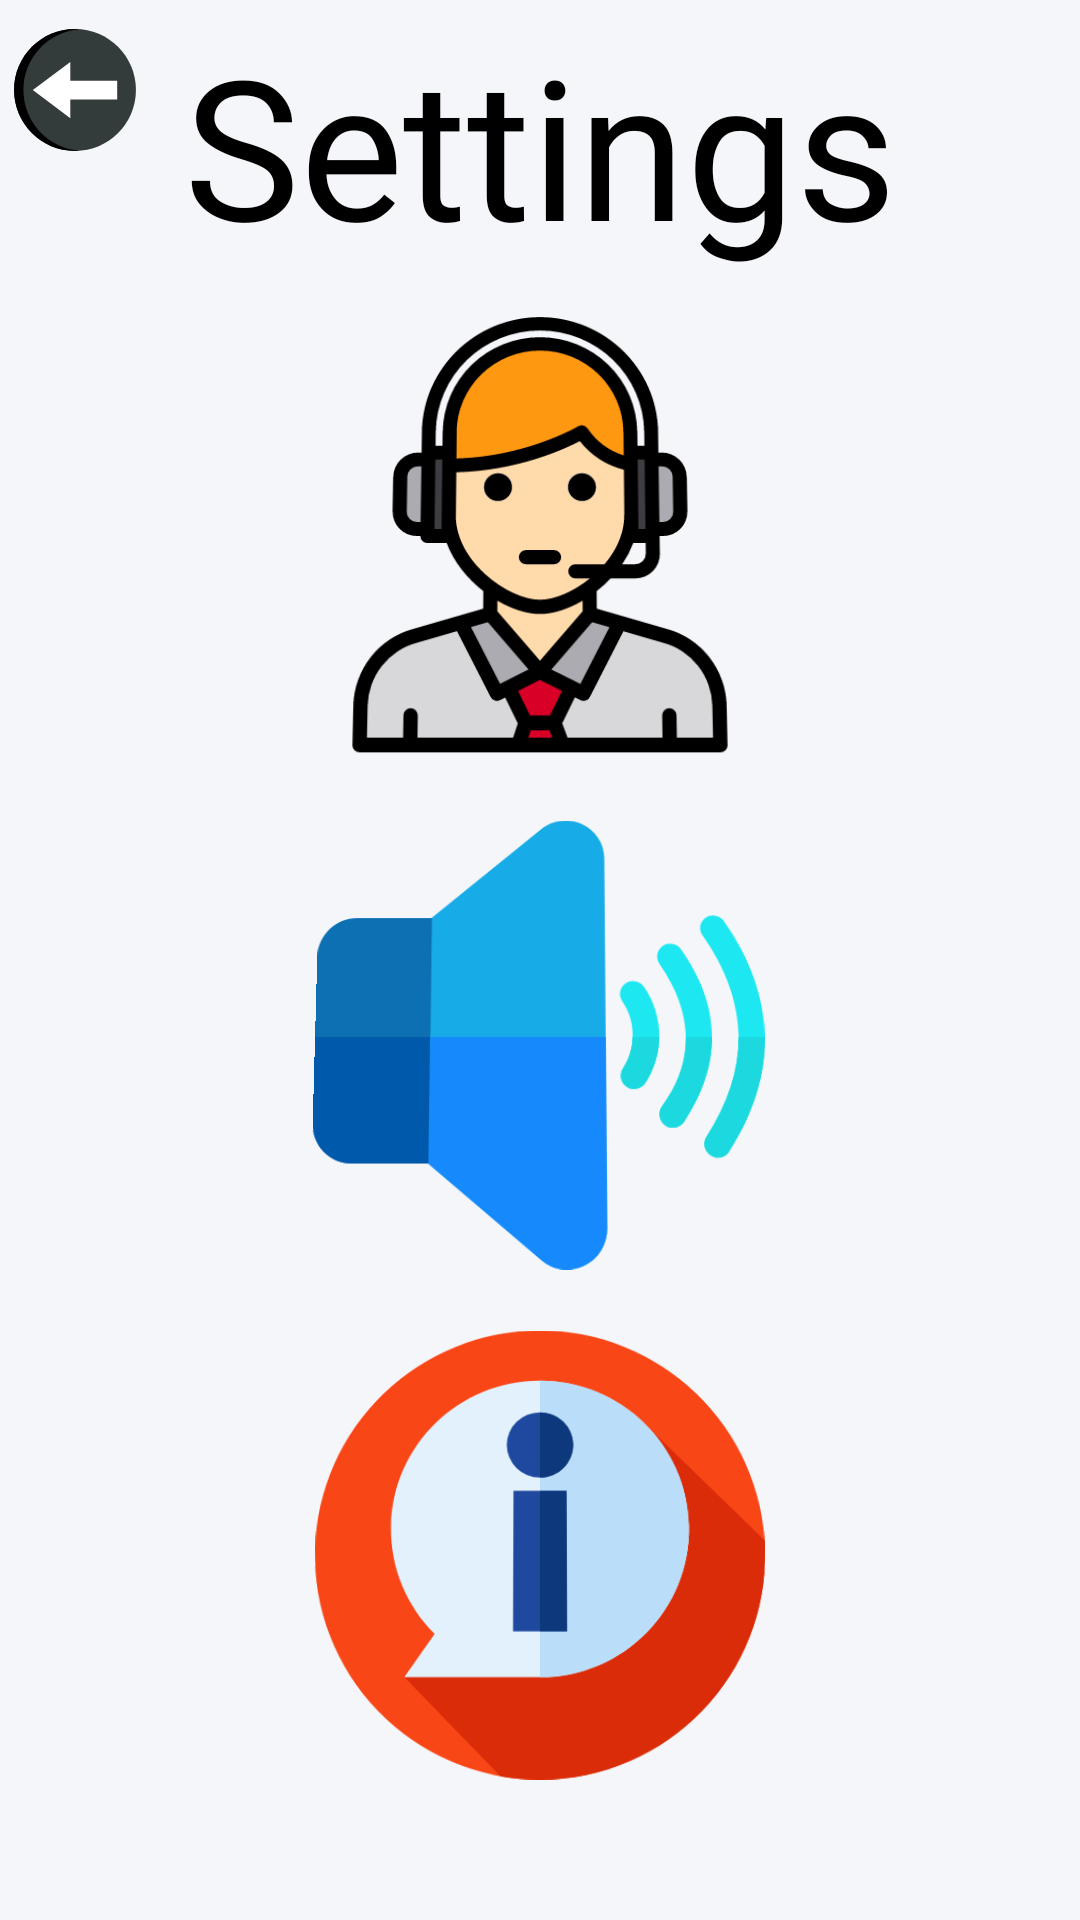

Icons on this 1080 × 1920 Android screen, each with its box as (x1, y1, x2, y2):
back: (14, 29, 136, 151)
